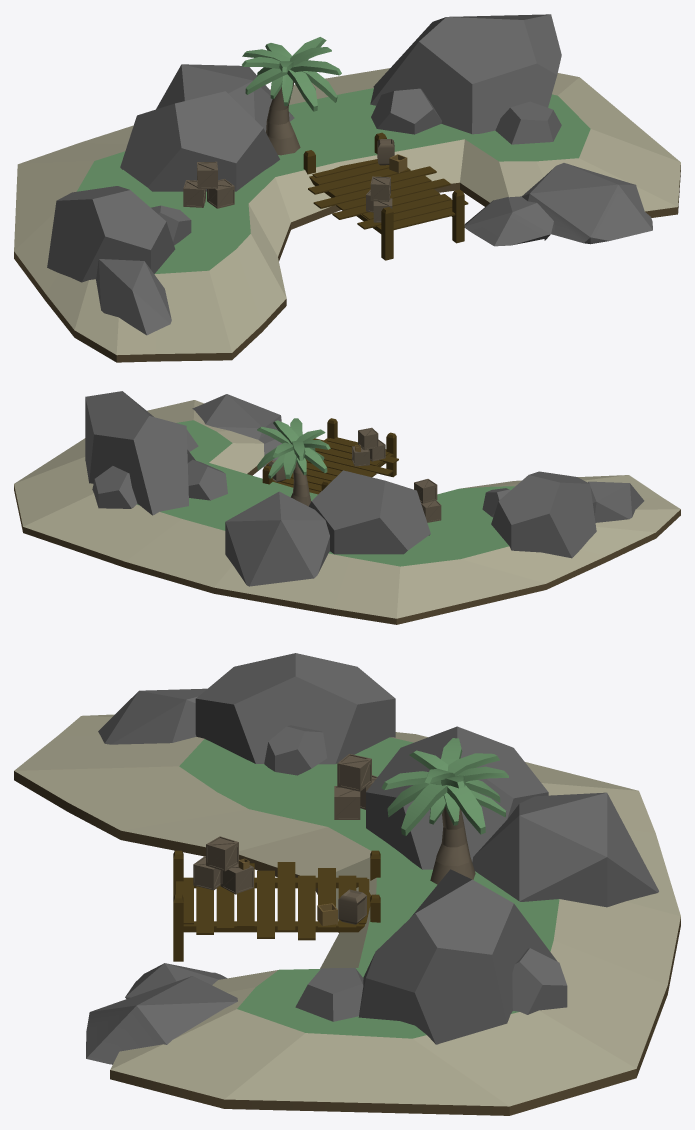
File: Island1WithMaterialNoAssets.fbx
3 renders of one model, top to bottom at view 1: azimuth 30°, elevation 25°; view 2: azimuth 150°, elevation 25°; view 3: azimuth 270°, elevation 25°, orthographic. The views are drawn at different scales.
Parts seen in each view (by area): view 1: islandform2; view 2: islandform2; view 3: islandform2.
Boxes of the visible parts, box(x1,y1,x2,y2) form: islandform2: box(14, 14, 680, 362); islandform2: box(14, 391, 680, 624); islandform2: box(14, 653, 680, 1115).
Bounding box in the file's own units: 3.61 × 0.7115 × 2.58.
